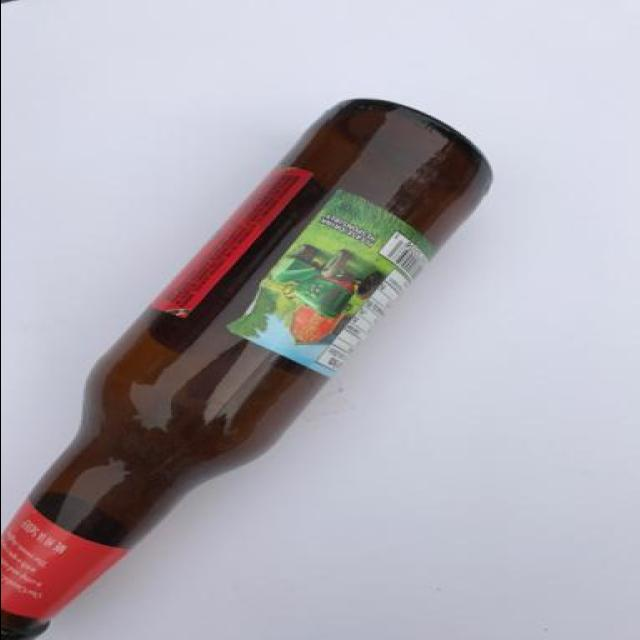Glass Bottle: (0, 92, 505, 638)
